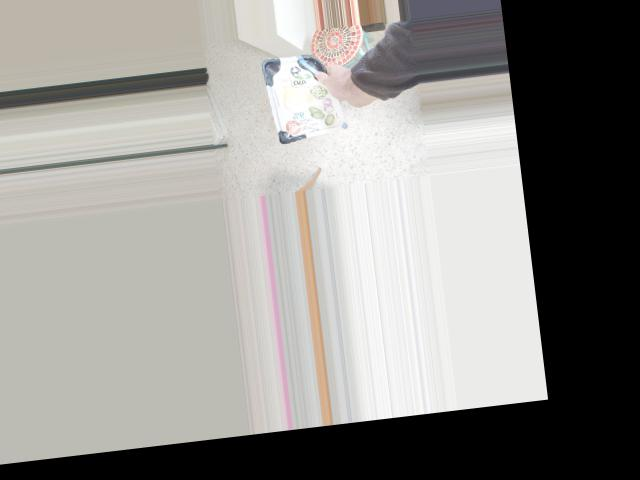cheese: (286, 60, 361, 141)
